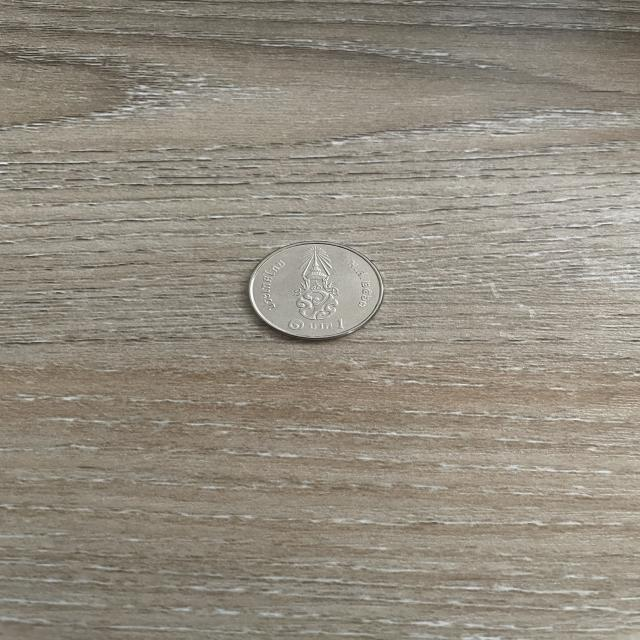1 Bath: (238, 236, 395, 351)
